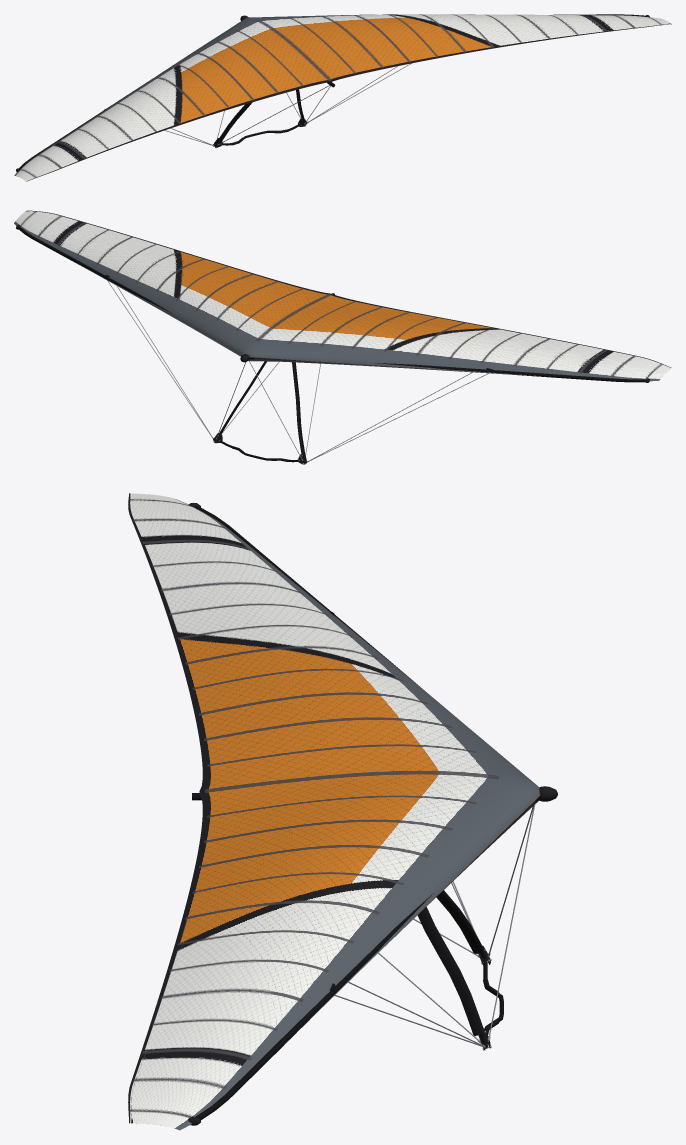
File: glider_air_rev.glb
3 views of the same model, one above another, from view 1: azimuth 30°, elevation 25°; view 2: azimuth 150°, elevation 25°; view 3: azimuth 270°, elevation 25° (orthographic). The views are drawn at different scales.
Parts seen in each view (by area): view 1: Sail, ControlFrame, Frame; view 2: Sail, ControlFrame, Frame; view 3: Sail, ControlFrame, Frame.
Part boxes in pixels (box(x1,y1,x2,y2)): Sail: box(14, 14, 671, 181); ControlFrame: box(164, 63, 411, 148); Frame: box(16, 14, 649, 171); Sail: box(14, 210, 671, 381); ControlFrame: box(107, 280, 488, 464); Frame: box(16, 224, 650, 382); Sail: box(128, 493, 540, 1130); ControlFrame: box(334, 804, 535, 1050); Frame: box(188, 503, 557, 1125).
Bounding box in the file's own units: 10.04 × 1.79 × 2.89.
8 materials, 1 textured.
